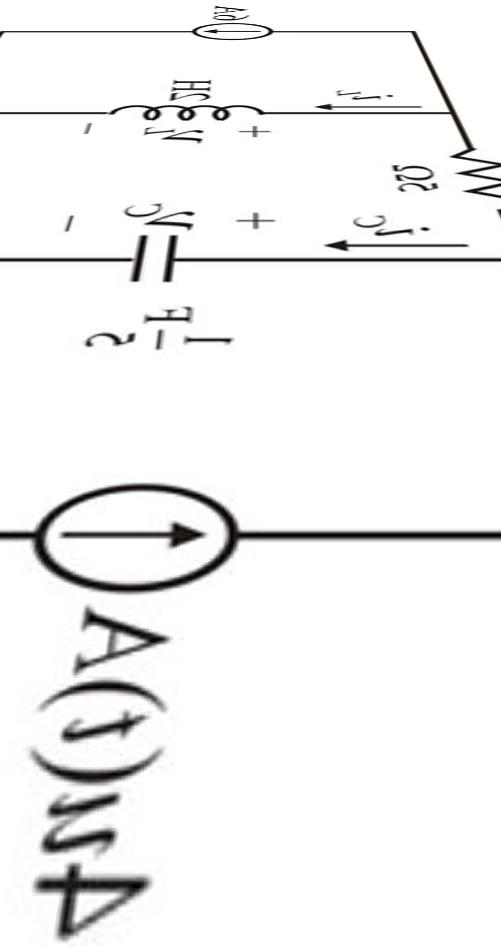inductor: (93, 82, 280, 125)
